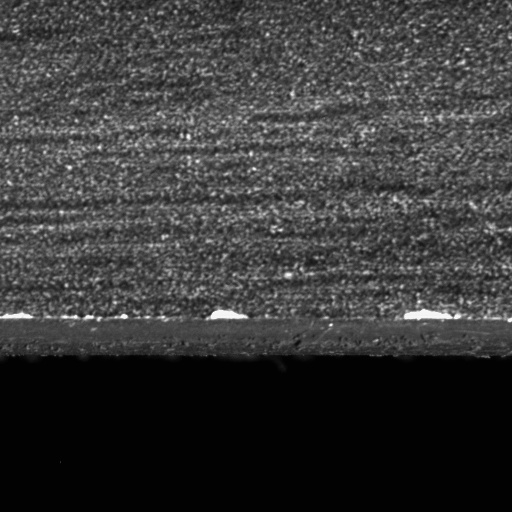huashang: (402, 308, 457, 321), (206, 308, 250, 321)
